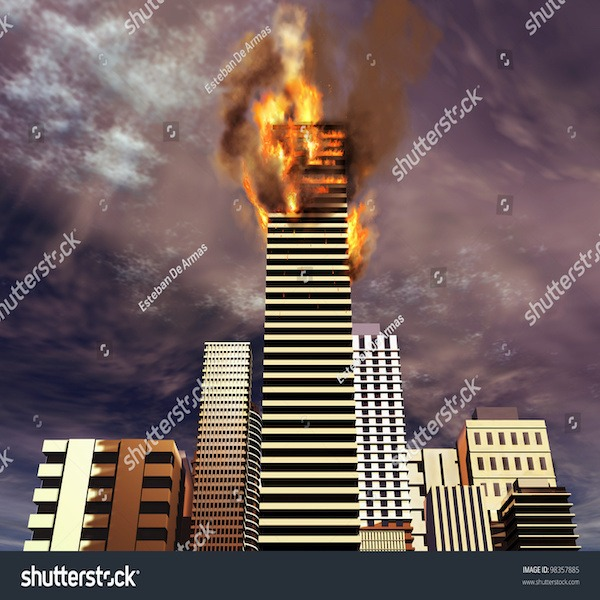fire: (238, 72, 342, 207), (346, 139, 379, 280)
